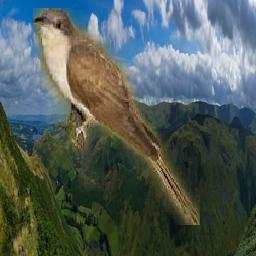Cuckoo: (34, 9, 201, 226)
